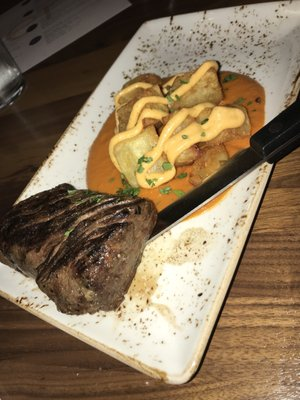soup: (0, 182, 158, 316)
